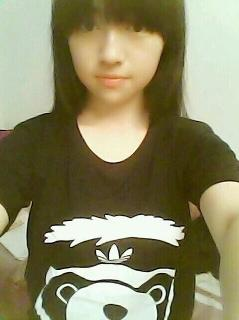short sleeve top: (0, 108, 239, 319)
